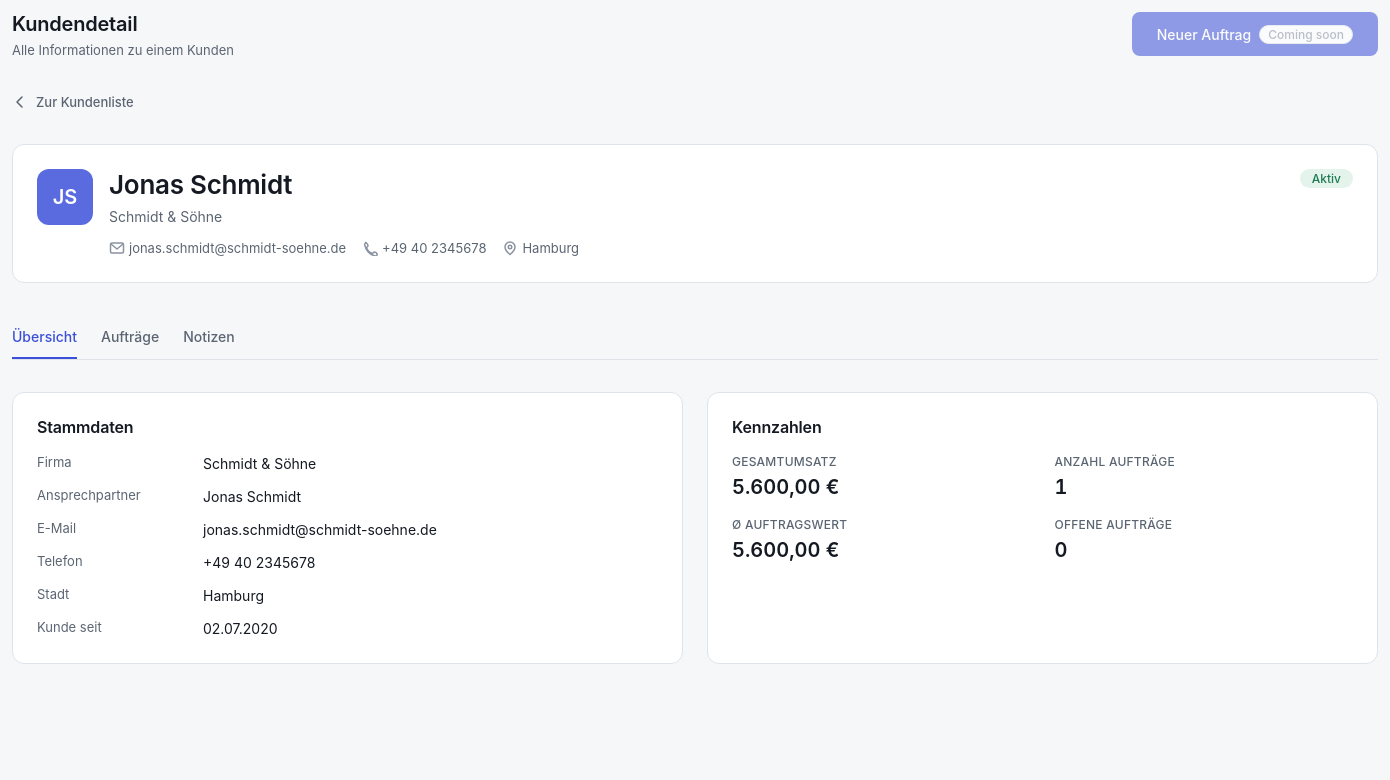
Test: CustomerDetail › marks the overview tab active by default and switches the visible panel
Click the tab "Aufträge" at (130, 337), box [101, 315, 159, 359]
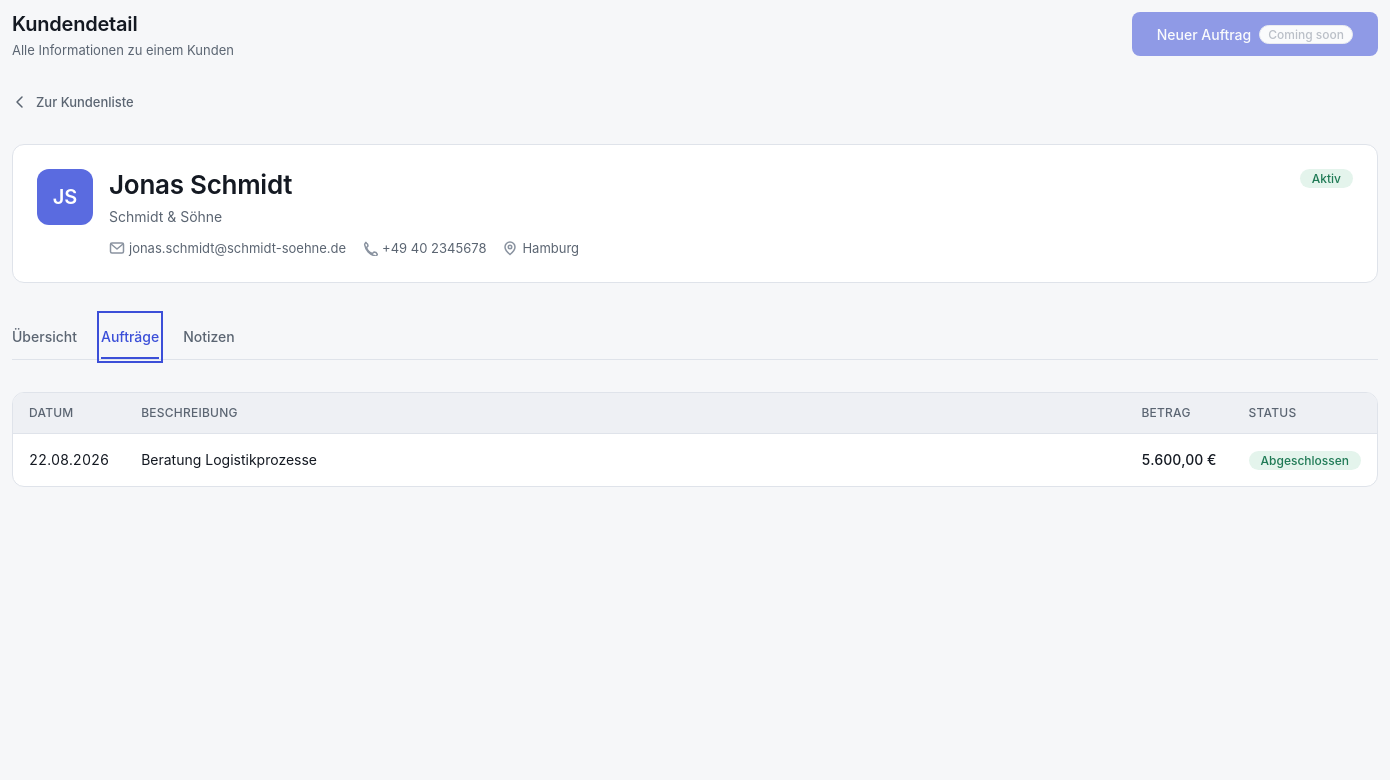
expect the tab "Aufträge" is selected: met, box [101, 315, 159, 359]
expect the tab "Übersicht" is not selected: met, box [12, 315, 77, 359]
Click the tab "Notizen" at (209, 337), box [183, 315, 235, 359]
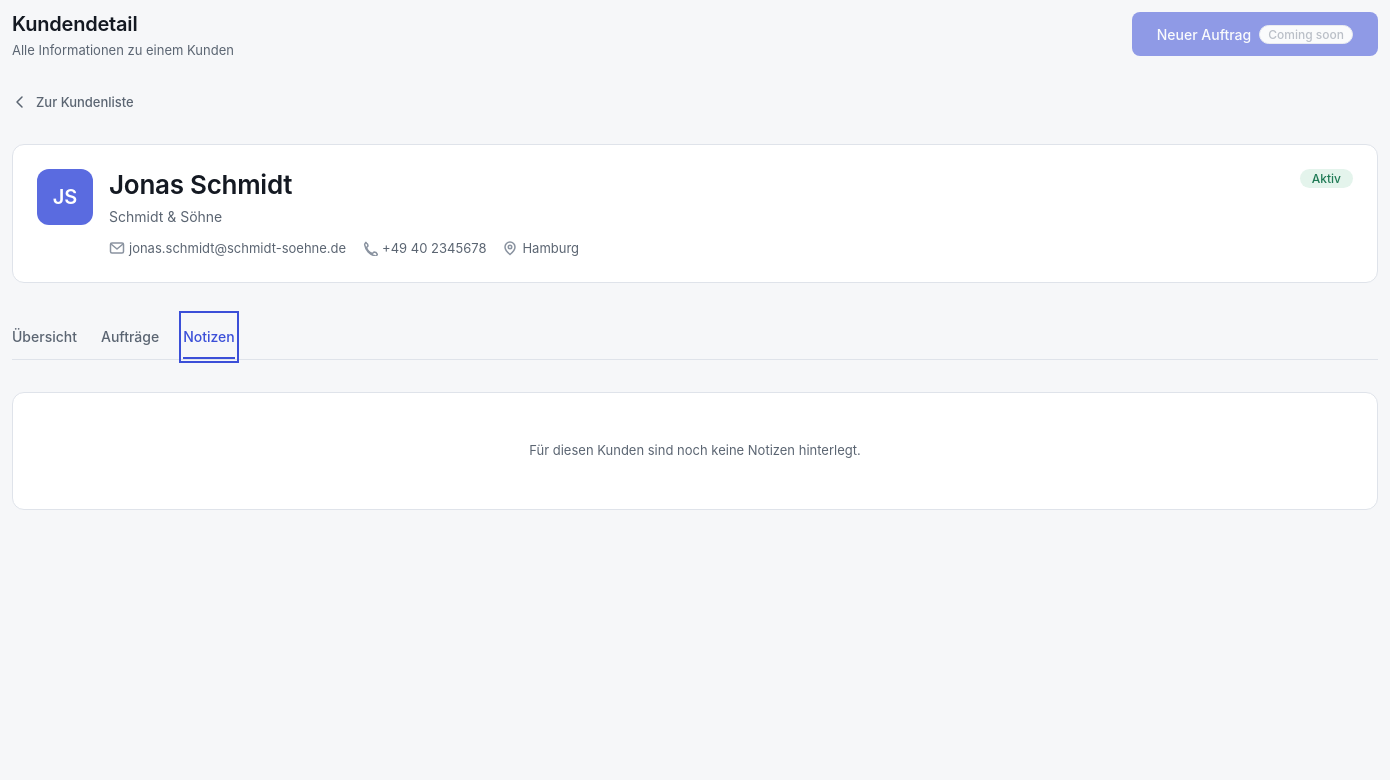
expect the text "Für diesen Kunden sind noch keine Notizen hinterlegt." is shown: met, box [529, 442, 861, 458]
